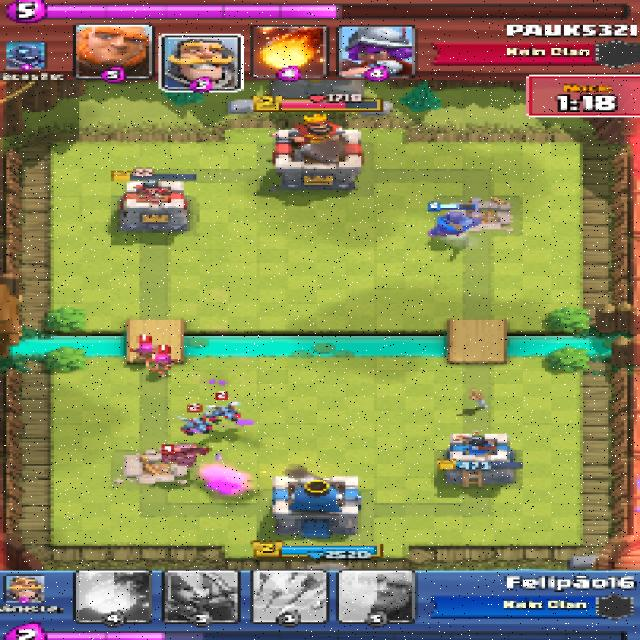Enemy-Archer: (148, 354, 173, 374), (128, 342, 154, 360)
Enemy-MiniPEKKA: (161, 446, 206, 466)
Enemy-Minion: (206, 404, 242, 421), (179, 417, 211, 433)
Player-Knight: (428, 208, 478, 238)
